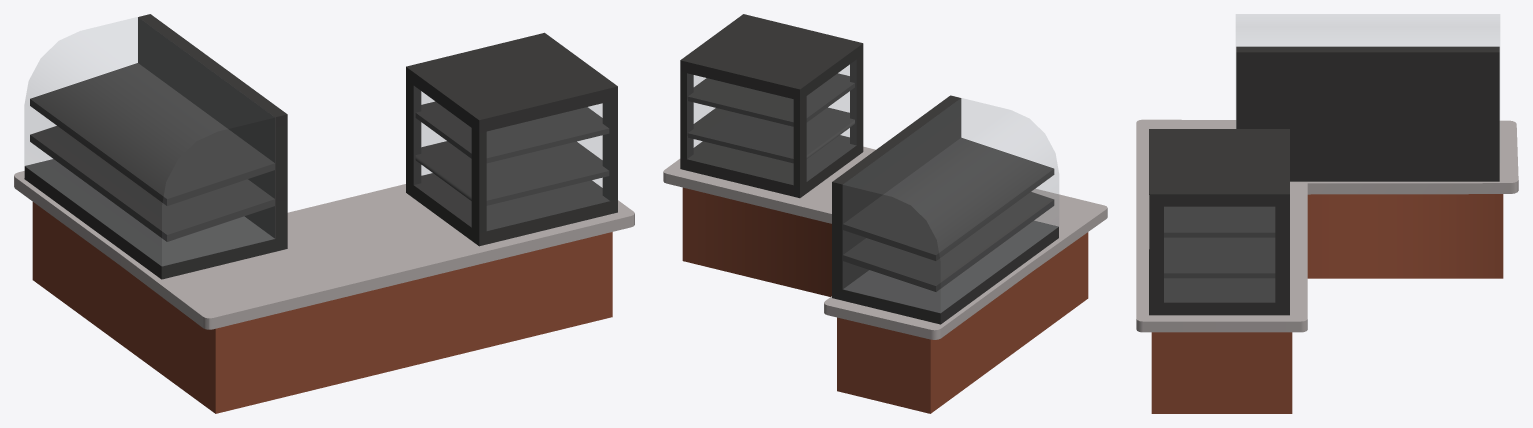
File: FoodCounter.fbx
The picture shows the model from 3 angles, left to right: view 1: azimuth 30°, elevation 25°; view 2: azimuth 150°, elevation 25°; view 3: azimuth 270°, elevation 25°; orthographic projection. The views are drawn at different scales.
Visible parts, largest first — view 1: foodCounter, base, glass, foodWarmer, tray; view 2: foodCounter, base, glass, foodWarmer, tray; view 3: foodCounter, base, foodWarmer, glass, tray.
Boxes of the visible parts, x1,y1,x2,y2 form: foodCounter: (14,171,634,413); base: (24,14,287,279); glass: (24,17,274,265); foodWarmer: (406,32,617,246); tray: (415,101,609,205); foodCounter: (663,146,1107,413); base: (832,95,1058,324); glass: (843,98,1058,312); foodWarmer: (680,14,863,198); tray: (687,73,854,163); foodCounter: (1136,119,1518,413); base: (1236,46,1499,181); foodWarmer: (1149,129,1289,315); glass: (1236,14,1499,46); tray: (1164,206,1275,278).
Size of the model in its own units: 283 by 150 by 226.
